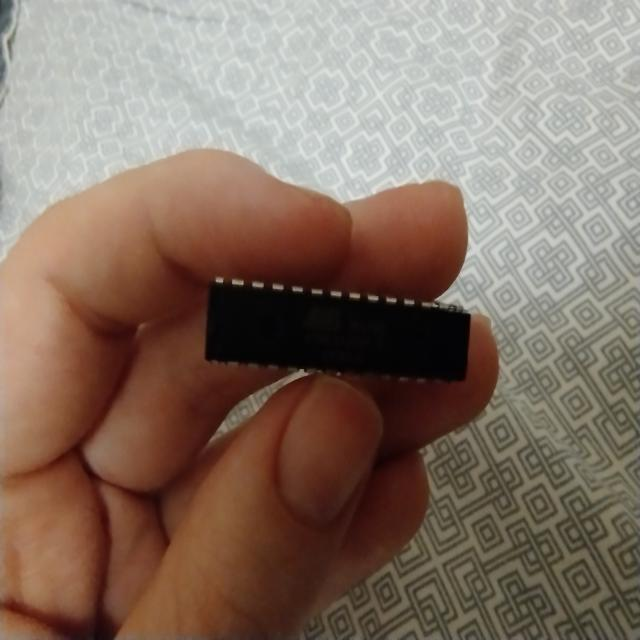atmega: (202, 274, 473, 386)
